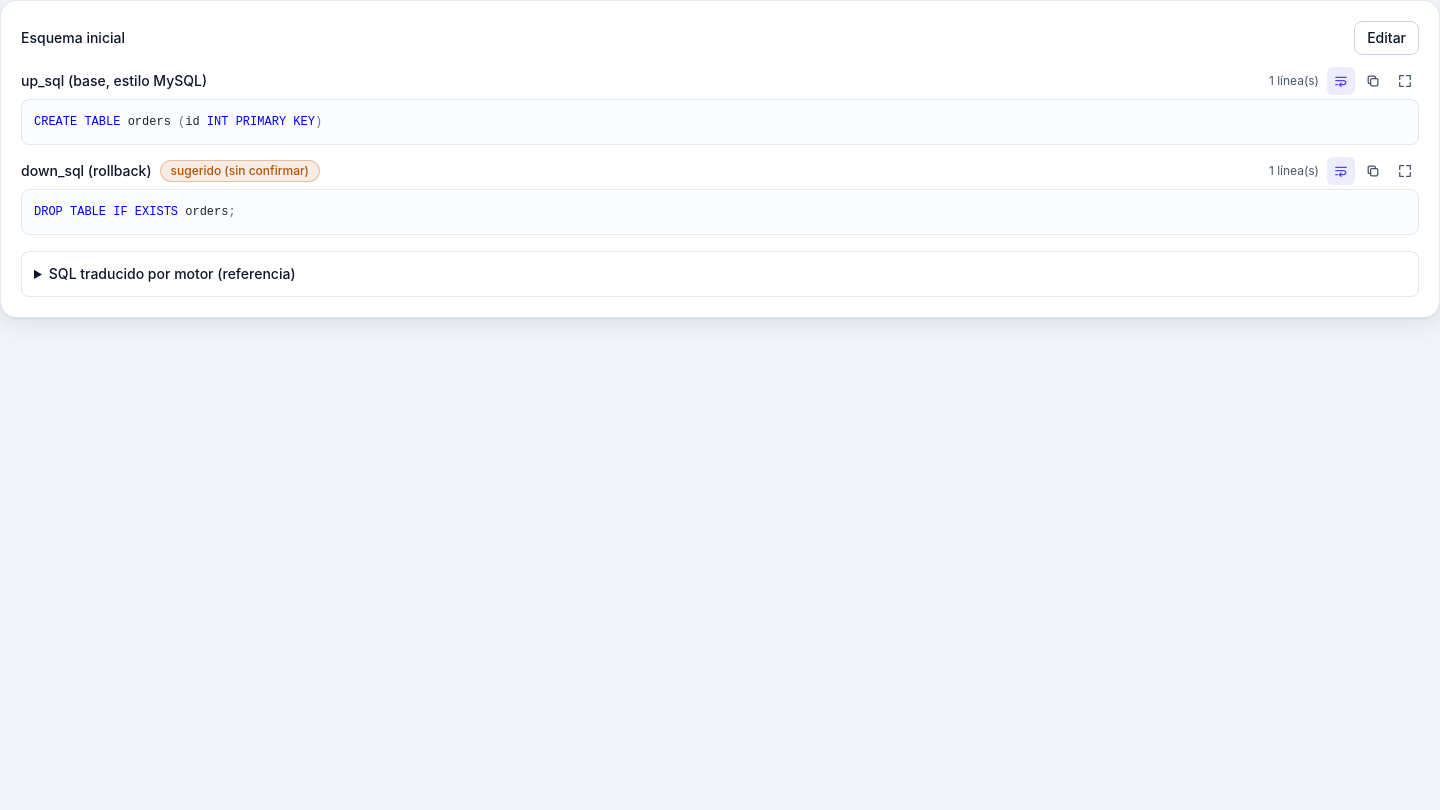
ModelMigrationDetailPanel › mientras se ve el detalle de la versión ANTERIOR (keepPreviousData) › no deja un formulario montado ni envía nada con el detalle prestado
The width and height of the screenshot is (1440, 810).
Click the button "Editar": {"x": 1387, "y": 38} x1=1354 y1=21 x2=1419 y2=55
(page scrolled)
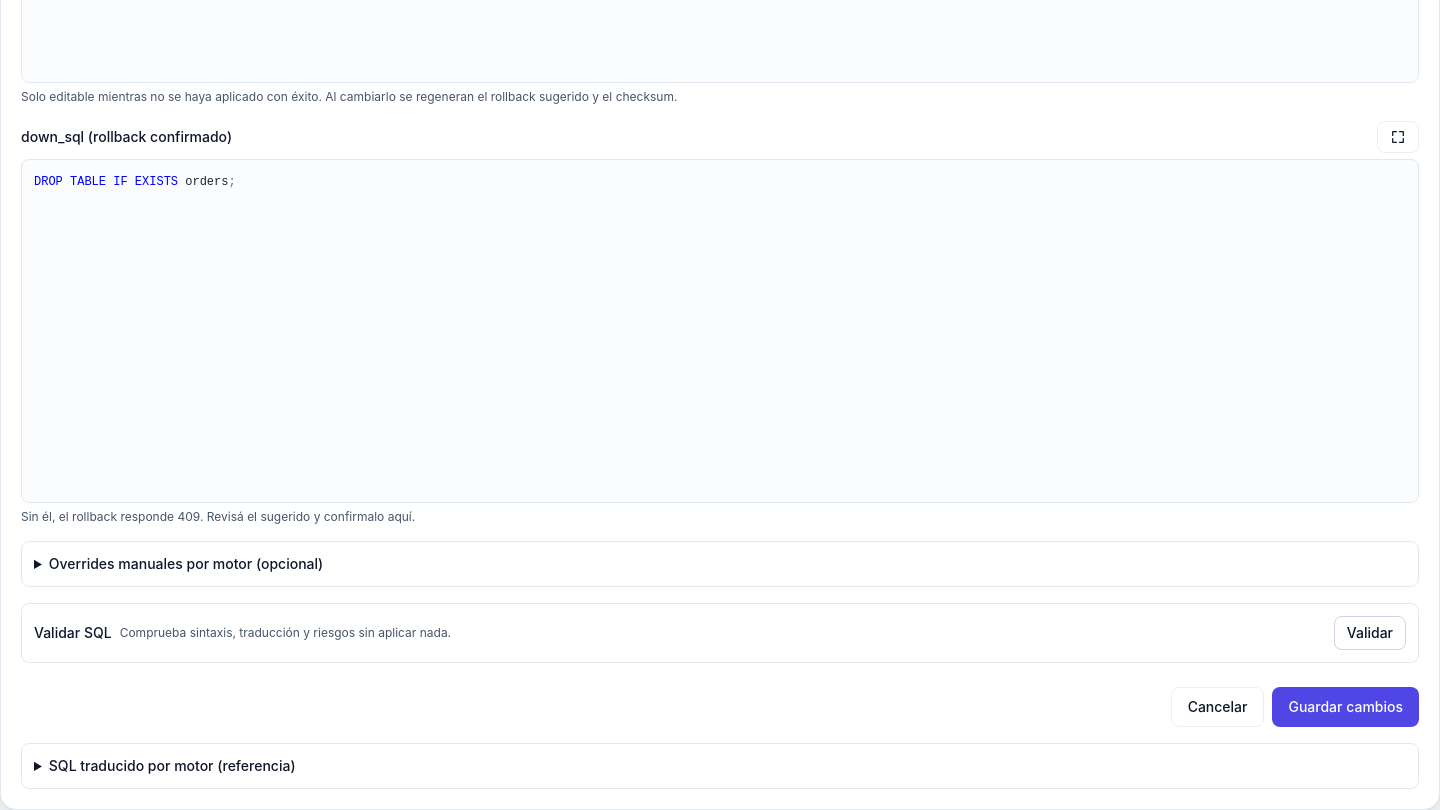
Check: the button "Guardar cambios" is shown, box x1=1272 y1=687 x2=1419 y2=727
